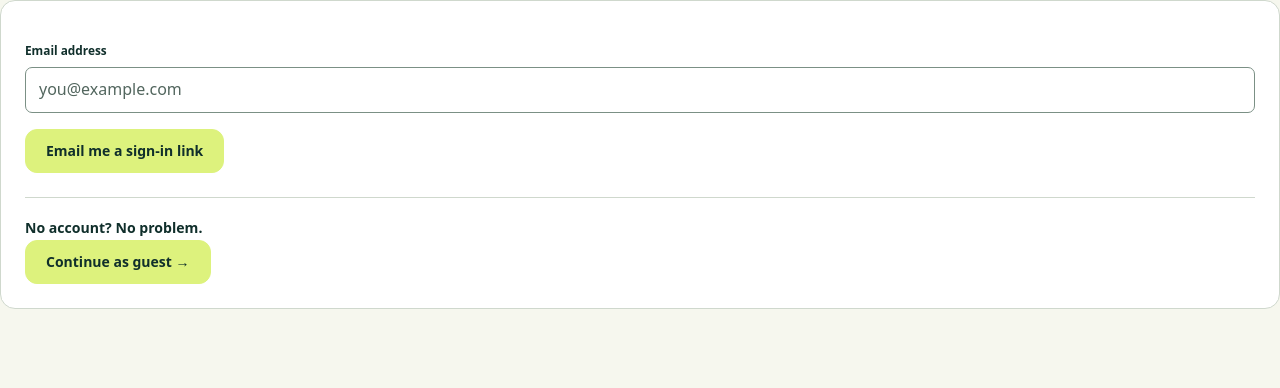
Test: blocks duplicate email submissions while pending and keeps guest access on failure
Type "learner@example.test" into the field labelled "Email address".
click(640, 90); type("learner@example.test")  # box [25,66,1255,112]
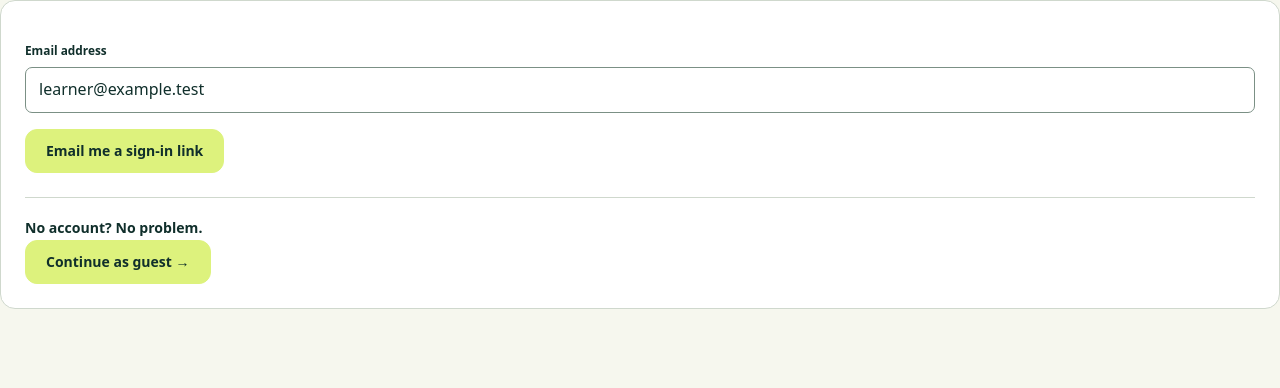
Submit the form
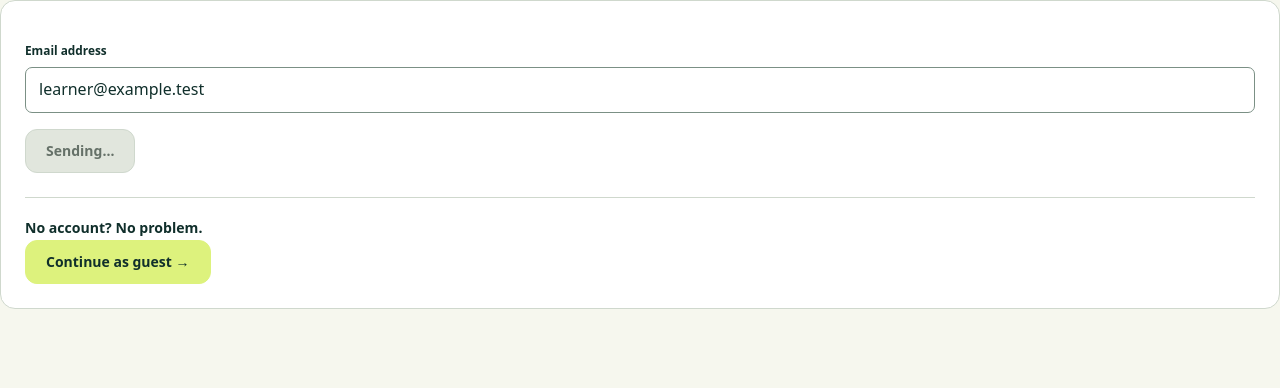
Submit the form
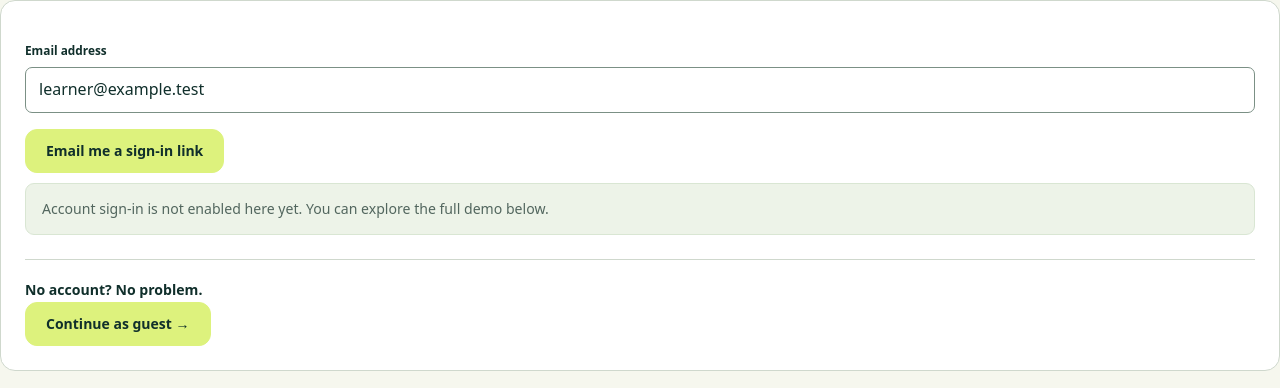
expect the message shows "not enabled": met, box [42,199,549,218]
expect the button "Email me a sign-in link" is shown: met, box [25,128,224,173]
